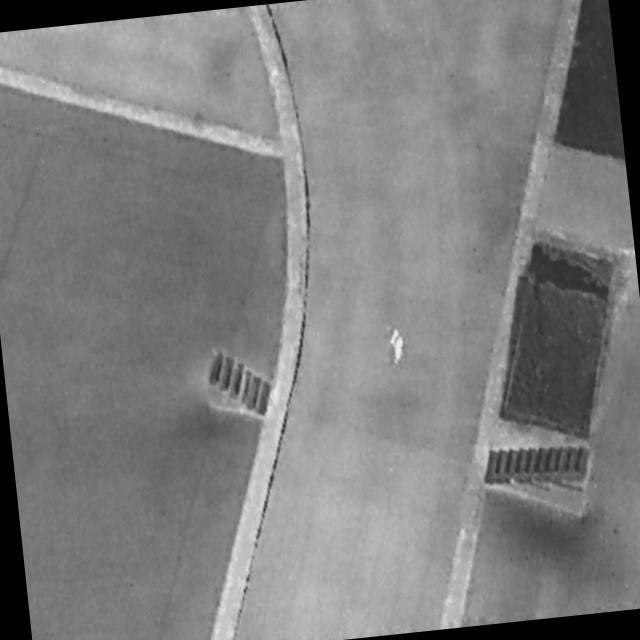person: (386, 323, 409, 369)
